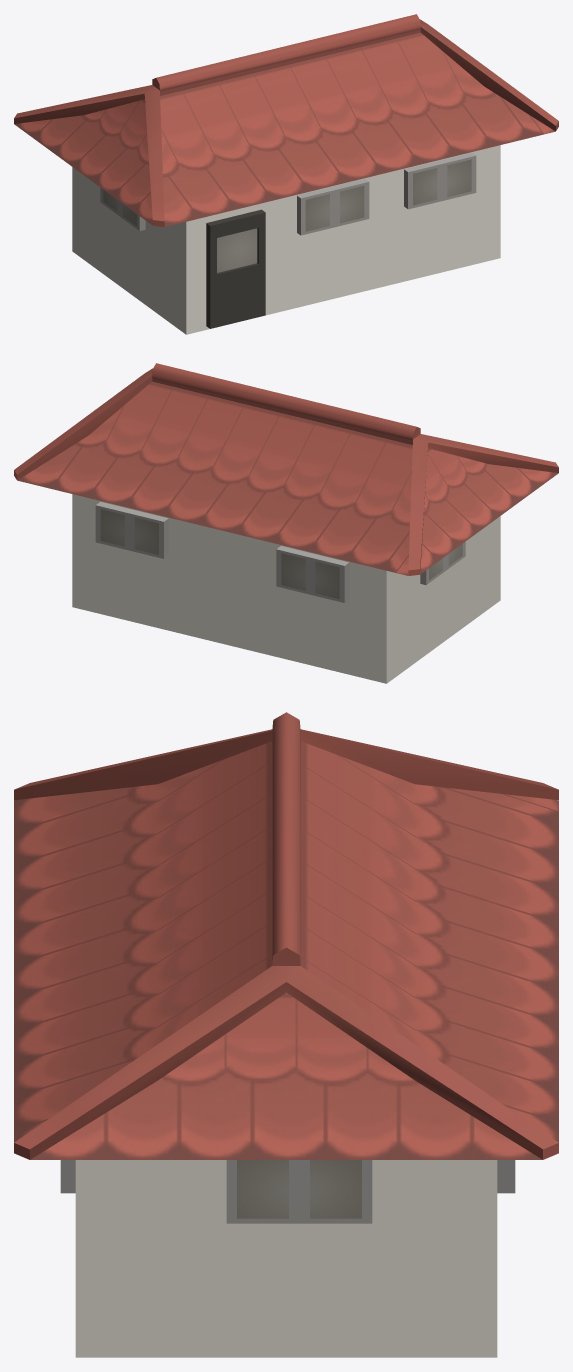
File: Building_House_06.fbx
3 views of the same model, one above another, from view 1: azimuth 30°, elevation 25°; view 2: azimuth 150°, elevation 25°; view 3: azimuth 270°, elevation 25° (orthographic). The views are drawn at different scales.
Visible parts, largest first — view 1: Box036; view 2: Box036; view 3: Box036.
Part boxes in pixels (left/top/right/bottom): Box036: left=14, top=14, right=558, bottom=334; Box036: left=14, top=363, right=558, bottom=683; Box036: left=14, top=712, right=558, bottom=1357.
Bounding box in the file's own units: 205 × 129 × 101.
